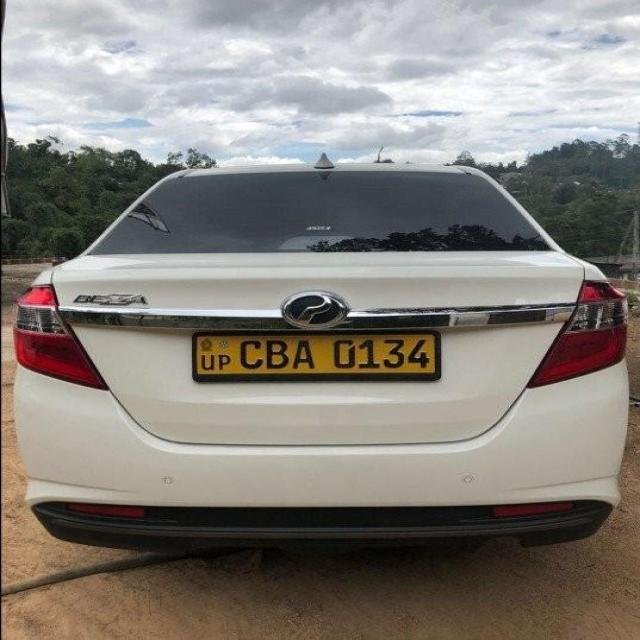license-plate: (192, 335, 433, 369)
